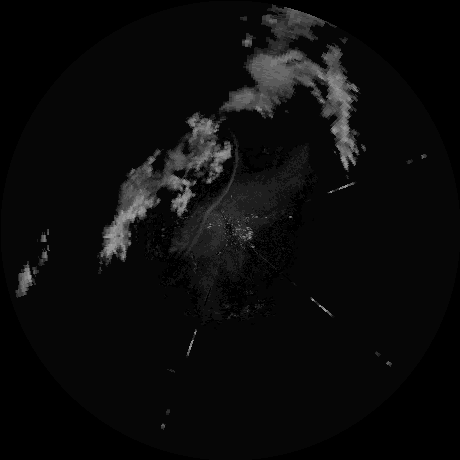frontgust: (187, 136, 238, 249)
